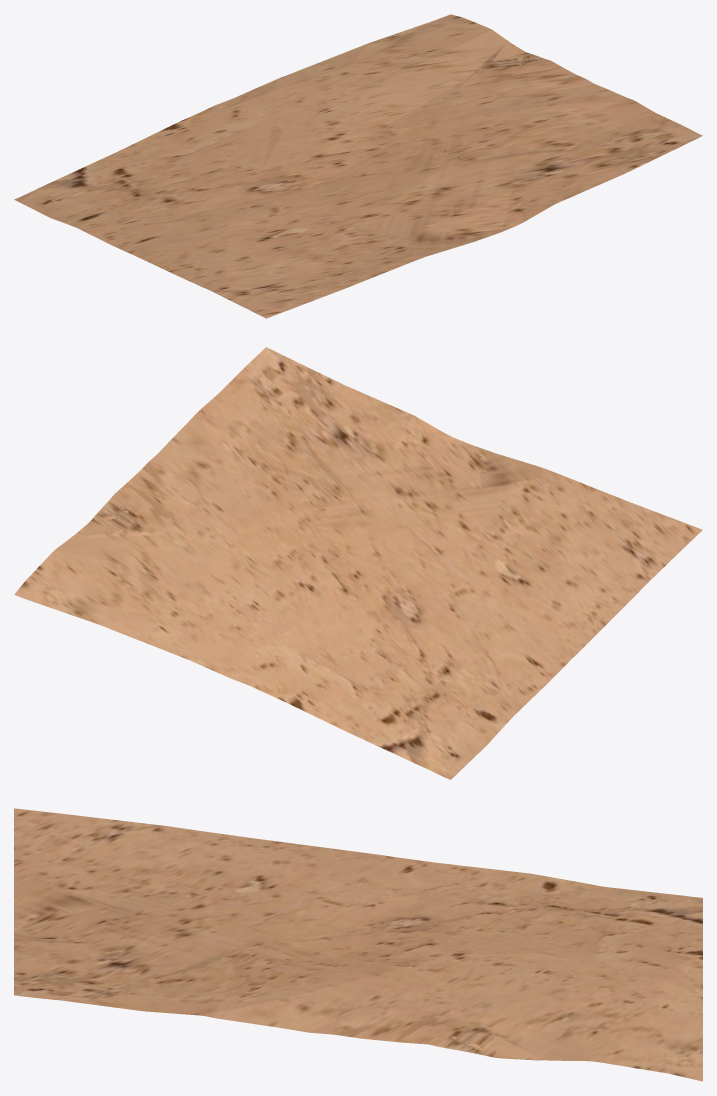
3 views of the same model, one above another, from view 1: azimuth 30°, elevation 25°; view 2: azimuth 150°, elevation 25°; view 3: azimuth 270°, elevation 25° (orthographic). The views are drawn at different scales.
Bounding box in the file's own units: 1.04 × 0.324 × 1.04.
3 materials, 3 textured.
